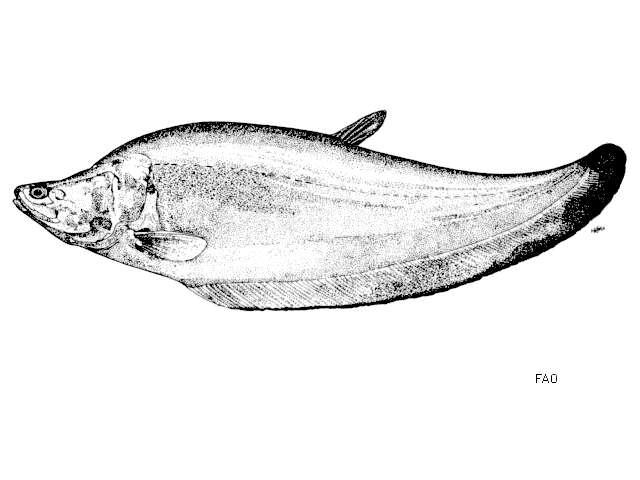Mulut: (4, 174, 54, 242)
Sirip Dada: (130, 228, 218, 270)
Sirip Punggung: (322, 102, 402, 152)
